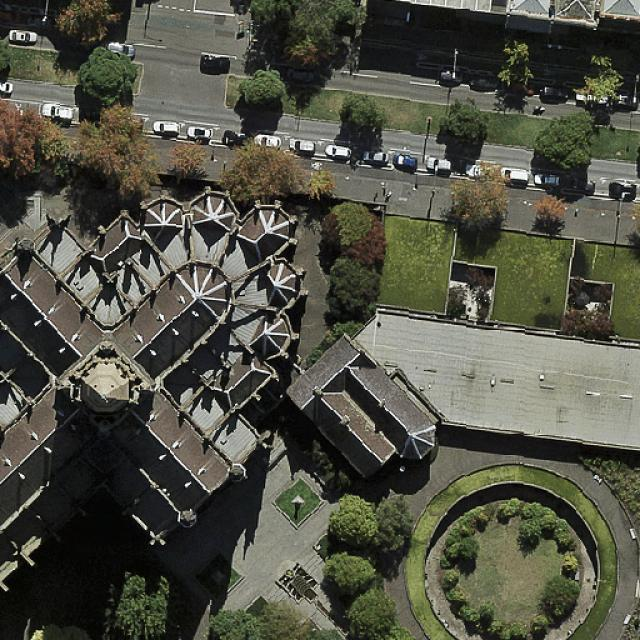Bike-Symbols: (310, 158, 325, 173)
